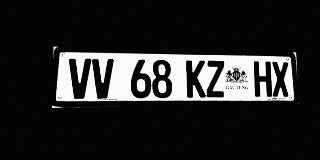6: (131, 59, 151, 98)
8: (152, 60, 172, 98)
H: (253, 61, 272, 97)
K: (186, 60, 206, 98)
V: (68, 58, 91, 99), (92, 59, 114, 99)
X: (271, 61, 290, 97)
Z: (206, 60, 225, 97)
